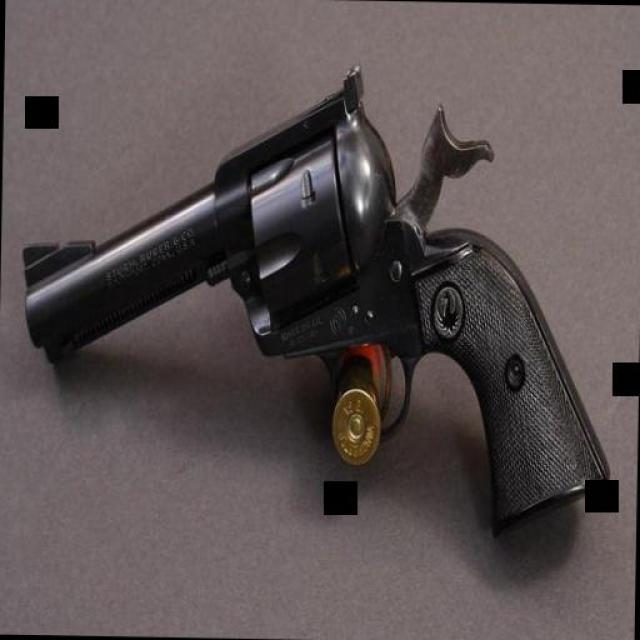gun: (16, 51, 618, 555)
